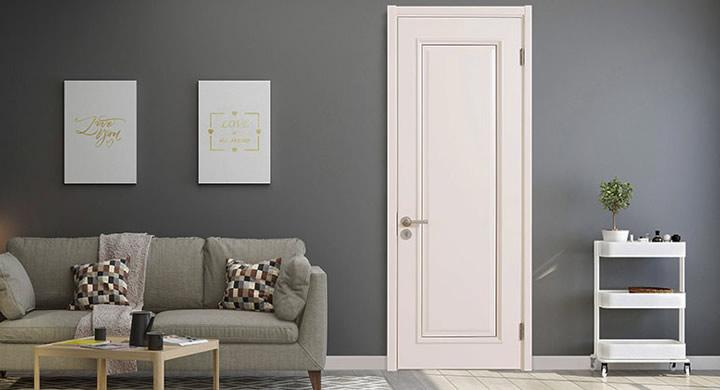door: (385, 9, 528, 368)
